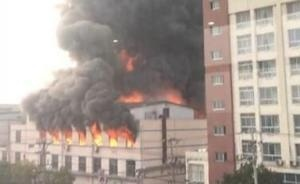fire: (43, 122, 137, 146)
